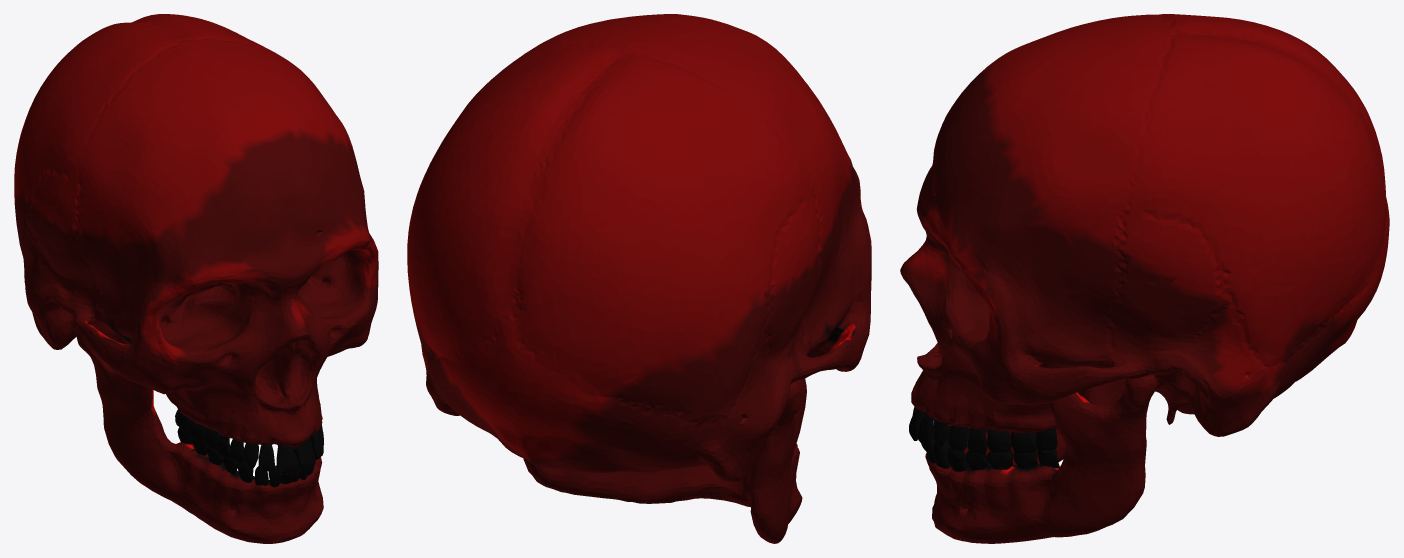
File: skull.dae
3 renders of one model, left to right at view 1: azimuth 30°, elevation 25°; view 2: azimuth 150°, elevation 25°; view 3: azimuth 270°, elevation 25°, orthographic. The views are drawn at different scales.
Visible parts, largest first — view 1: Group5732; view 2: Group5732; view 3: Group5732.
Part boxes in pixels (left/top/right/bottom): Group5732: left=14, top=14, right=378, bottom=543; Group5732: left=407, top=14, right=871, bottom=543; Group5732: left=900, top=14, right=1389, bottom=543.
Bounding box in the file's own units: 1.34 × 2 × 1.79.
